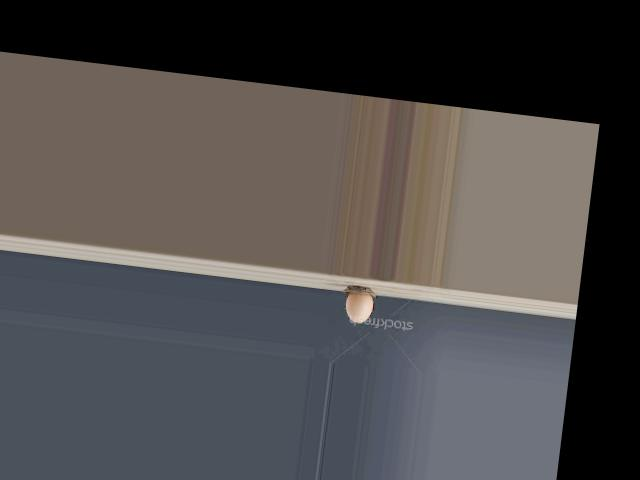egg: (343, 291, 373, 323)
